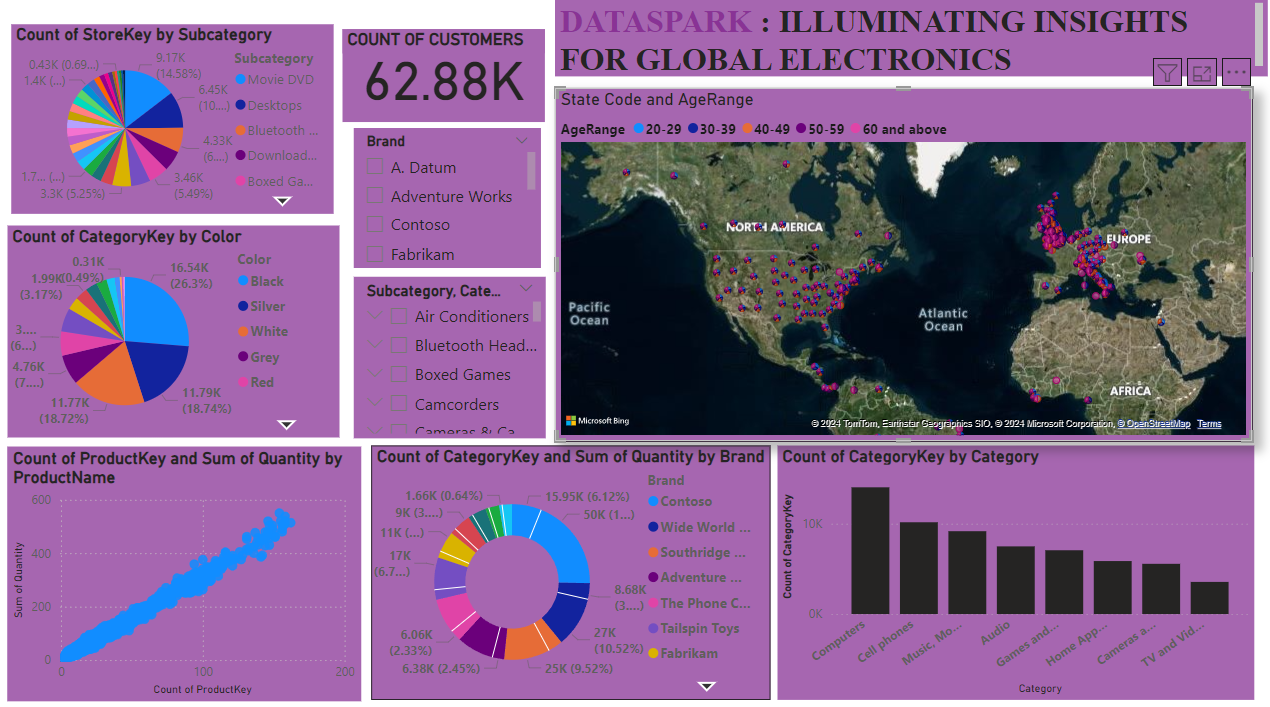

Layout of this report page (visuals, bound fields, positions):
{"tool":"powerbi","page":{"name":"DASHBOARD","canvas":[1280,720],"ordinal":0},"visuals":[{"type":"pieChart","fields":{"Category":["final_merge_df.Gender"],"Y":["Sum(final_merge_df.Age)"]},"box":[555,147.2,229.2,171.3],"z":1},{"type":"map","fields":{"Category":["final_merge_df.State Code"],"Series":["final_merge_df.AgeRange"]},"box":[555,90.5,697.3,353.5],"z":2},{"type":"card","title":"COUNT OF CUSTOMERS","fields":{"Values":["CountNonNull(final_merge_df.CategoryKey)"]},"box":[342.6,31.4,202.7,92.9],"z":3},{"type":"donutChart","fields":{"Y":["CountNonNull(final_merge_df.CategoryKey)","Sum(final_merge_df.Quantity)"],"Category":["final_merge_df.Brand"]},"box":[371.6,447.6,399.3,254.6],"z":5},{"type":"textbox","box":[555,0,713,78.4],"z":6},{"type":"scatterChart","fields":{"X":["CountNonNull(final_merge_df.ProductKey)"],"Y":["Sum(final_merge_df.Quantity)"],"Category":["final_merge_df.ProductName"]},"box":[7.2,448.8,353.5,254.6],"z":7},{"type":"slicer","fields":{"Values":["final_merge_df.Subcategory","final_merge_df.Category"]},"box":[353.5,278.7,191.8,161.7],"z":8},{"type":"slicer","fields":{"Values":["final_merge_df.Brand"]},"box":[353.5,130.3,187,139.9],"z":9},{"type":"pieChart","fields":{"Category":["final_merge_df.Color"],"Y":["CountNonNull(final_merge_df.CategoryKey)"]},"box":[7.2,228,331.8,212.3],"z":10},{"type":"clusteredColumnChart","fields":{"Category":["final_merge_df.Category"],"Y":["CountNonNull(final_merge_df.CategoryKey)"]},"box":[776.9,447.6,476.5,254.6],"z":11},{"type":"pieChart","fields":{"Y":["CountNonNull(final_merge_df.StoreKey)"],"Category":["final_merge_df.Subcategory"]},"box":[10.9,26.5,322.1,189.4],"z":12}]}

Visuals, with their boxes in screenshot pixels (x1, y1, x2, y2), scaled from the page's 1280x720 canvas onto the 1270x707 screenshot:
pieChart - final_merge_df.Gender x Sum(final_merge_df.Age): [551, 145, 778, 313]
map - final_merge_df.State Code x final_merge_df.AgeRange: [551, 89, 1243, 436]
"COUNT OF CUSTOMERS" card: [340, 31, 541, 122]
donutChart - CountNonNull(final_merge_df.CategoryKey) x Sum(final_merge_df.Quantity): [369, 440, 765, 690]
textbox: [551, 0, 1258, 77]
scatterChart - CountNonNull(final_merge_df.ProductKey) x Sum(final_merge_df.Quantity): [7, 441, 358, 691]
slicer - final_merge_df.Subcategory x final_merge_df.Category: [351, 274, 541, 432]
slicer - final_merge_df.Brand: [351, 128, 536, 265]
pieChart - final_merge_df.Color x CountNonNull(final_merge_df.CategoryKey): [7, 224, 336, 432]
clusteredColumnChart - final_merge_df.Category x CountNonNull(final_merge_df.CategoryKey): [771, 440, 1244, 690]
pieChart - CountNonNull(final_merge_df.StoreKey) x final_merge_df.Subcategory: [11, 26, 330, 212]
